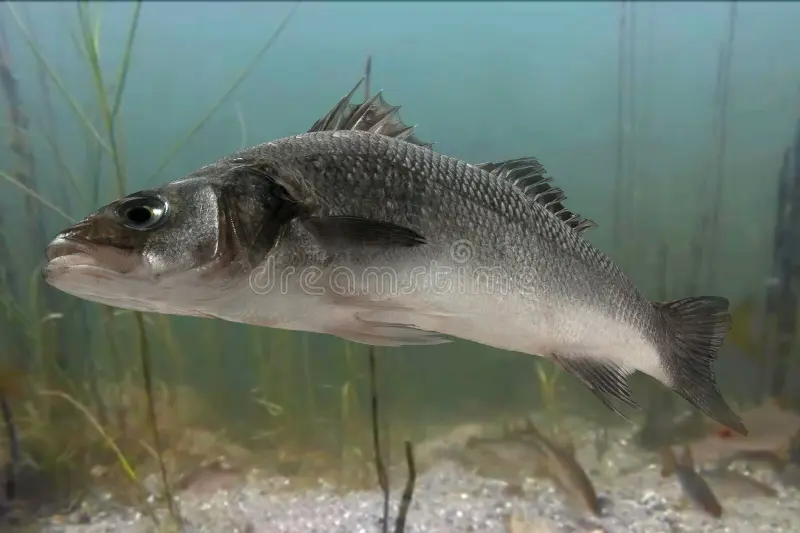Fish: (42, 74, 747, 433)
